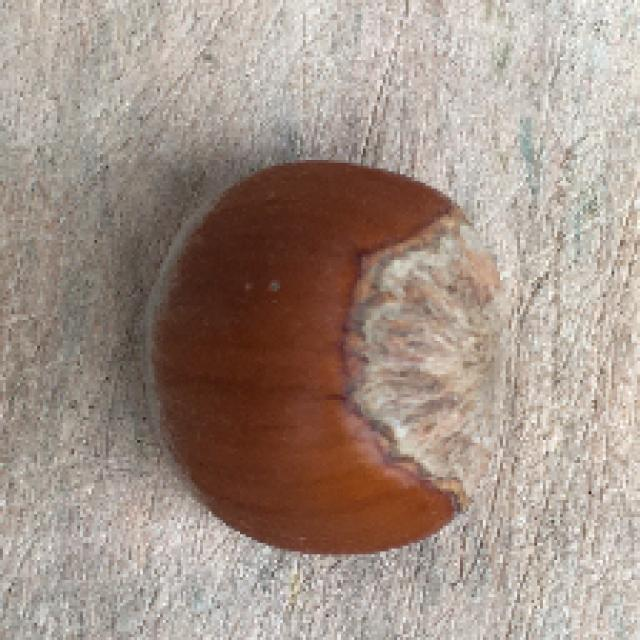qualityHazelnut: (140, 155, 506, 560)
